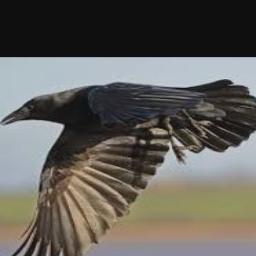Crow: (0, 80, 256, 256)
